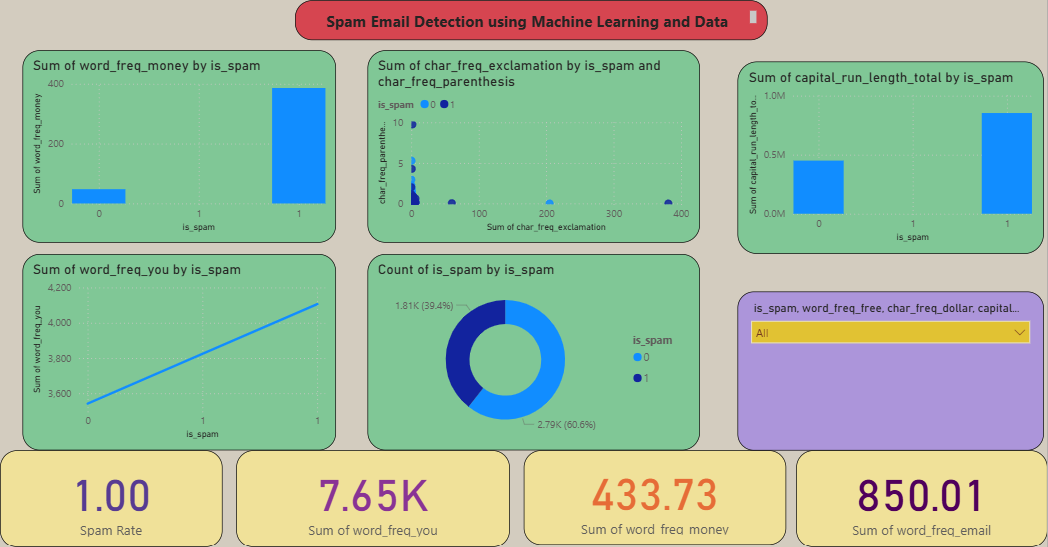

This screenshot's page, from the dashboard's own definition file:
{"tool":"powerbi","page":{"name":"Page 1","canvas":[1280,720],"ordinal":0},"visuals":[{"type":"clusteredColumnChart","fields":{"Category":["spambase_processed.is_spam"],"Y":["Sum(spambase_processed.word_freq_money)"]},"box":[27.5,111.5,383.5,235.3],"z":0},{"type":"scatterChart","fields":{"X":["Sum(spambase_processed.char_freq_exclamation)"],"Y":["spambase_processed.char_freq_parenthesis"],"Series":["spambase_processed.is_spam"]},"box":[449.2,111.5,406.4,235.3],"z":1000},{"type":"columnChart","fields":{"Category":["spambase_processed.is_spam"],"Y":["Sum(spambase_processed.capital_run_length_total)"]},"box":[901.4,125.3,374.3,235.3],"z":2000},{"type":"lineChart","fields":{"Y":["Sum(spambase_processed.word_freq_you)"],"Category":["spambase_processed.is_spam"]},"box":[27.5,360.6,383.5,239.9],"z":3000},{"type":"donutChart","fields":{"Y":["CountNonNull(spambase_processed.is_spam)"],"Category":["spambase_processed.is_spam"]},"box":[449.2,360.6,406.4,239.9],"z":4000},{"type":"card","fields":{"Values":["Sum(spambase_processed.word_freq_you)"]},"box":[288.8,600.4,334.6,119.2],"z":5000},{"type":"card","fields":{"Values":["Sum(spambase_processed.word_freq_money)"]},"box":[640.2,600.4,320.8,116.1],"z":6000},{"type":"slicer","fields":{"Values":["spambase_processed.is_spam","spambase_processed.word_freq_free","spambase_processed.char_freq_dollar","spambase_processed.capital_run_length_longest"]},"box":[901.4,406.4,374.3,194],"z":7000},{"type":"card","fields":{"Values":["Sum(spambase_processed.word_freq_email)"]},"box":[973.2,600.4,307.1,119.2],"z":8000},{"type":"card","fields":{"Values":["spambase_processed.Spam Rate"]},"box":[0,600.4,272,119.2],"z":9000},{"type":"textbox","box":[360.6,50.4,577.5,48.9],"z":10000}]}

Visuals, with their boxes in screenshot pixels (x1, y1, x2, y2):
clusteredColumnChart - spambase_processed.is_spam x Sum(spambase_processed.word_freq_money): Rect(33, 54, 341, 243)
scatterChart - Sum(spambase_processed.char_freq_exclamation) x spambase_processed.char_freq_parenthesis: Rect(372, 54, 698, 243)
columnChart - spambase_processed.is_spam x Sum(spambase_processed.capital_run_length_total): Rect(735, 65, 1036, 254)
lineChart - Sum(spambase_processed.word_freq_you) x spambase_processed.is_spam: Rect(33, 254, 341, 447)
donutChart - CountNonNull(spambase_processed.is_spam) x spambase_processed.is_spam: Rect(372, 254, 698, 447)
card - Sum(spambase_processed.word_freq_you): Rect(243, 447, 512, 543)
card - Sum(spambase_processed.word_freq_money): Rect(525, 447, 783, 540)
slicer - spambase_processed.is_spam x spambase_processed.word_freq_free: Rect(735, 291, 1036, 447)
card - Sum(spambase_processed.word_freq_email): Rect(793, 447, 1040, 543)
card - spambase_processed.Spam Rate: Rect(11, 447, 229, 543)
textbox: Rect(301, 5, 765, 44)
